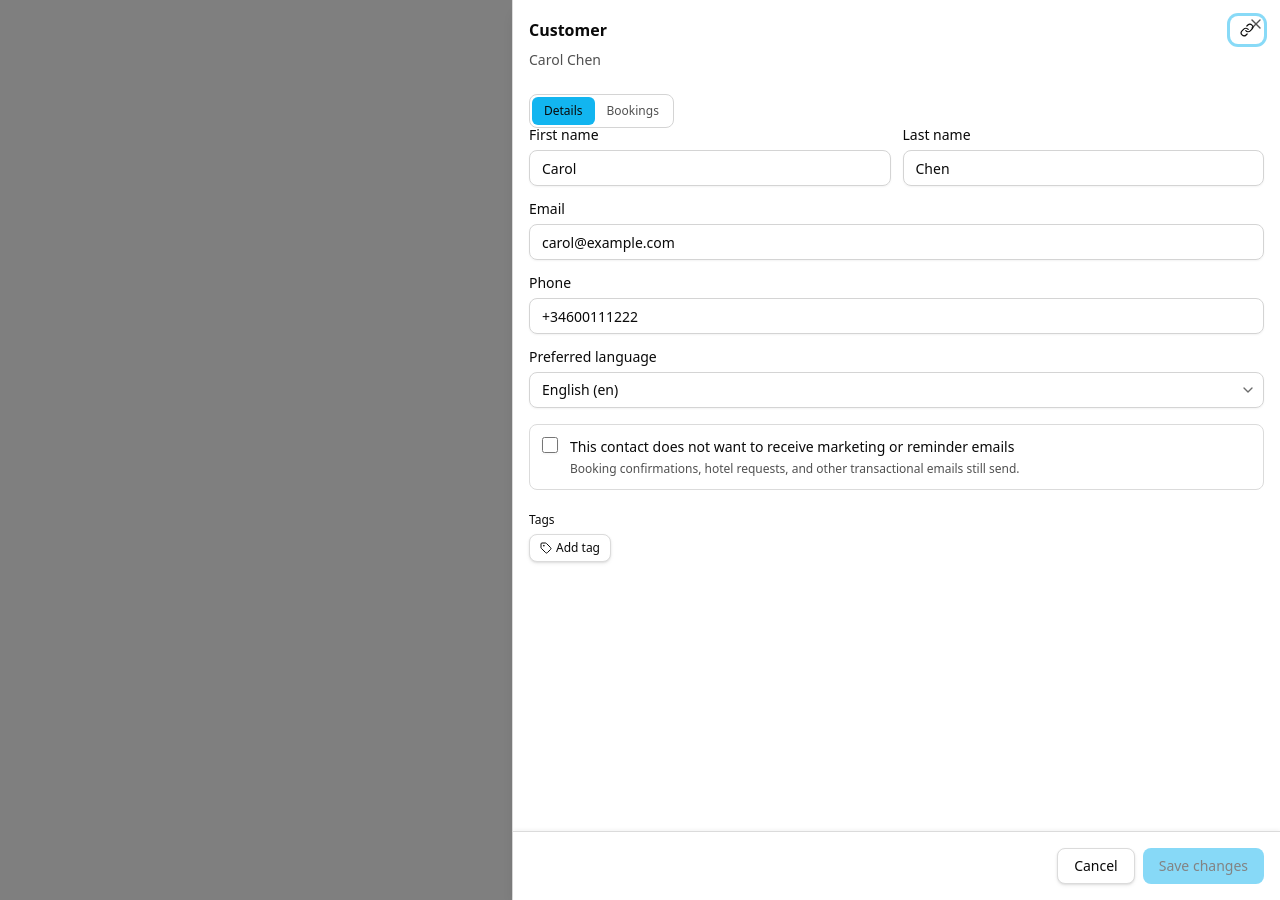
Test: CustomerDetailSheet › Bookings tab (landr-7o2a) › renders the bookings list with summary + rows when the tab is clicked
Click the tab with test id "customer-tab-bookings".
click(633, 111)  # box [594,97,671,125]
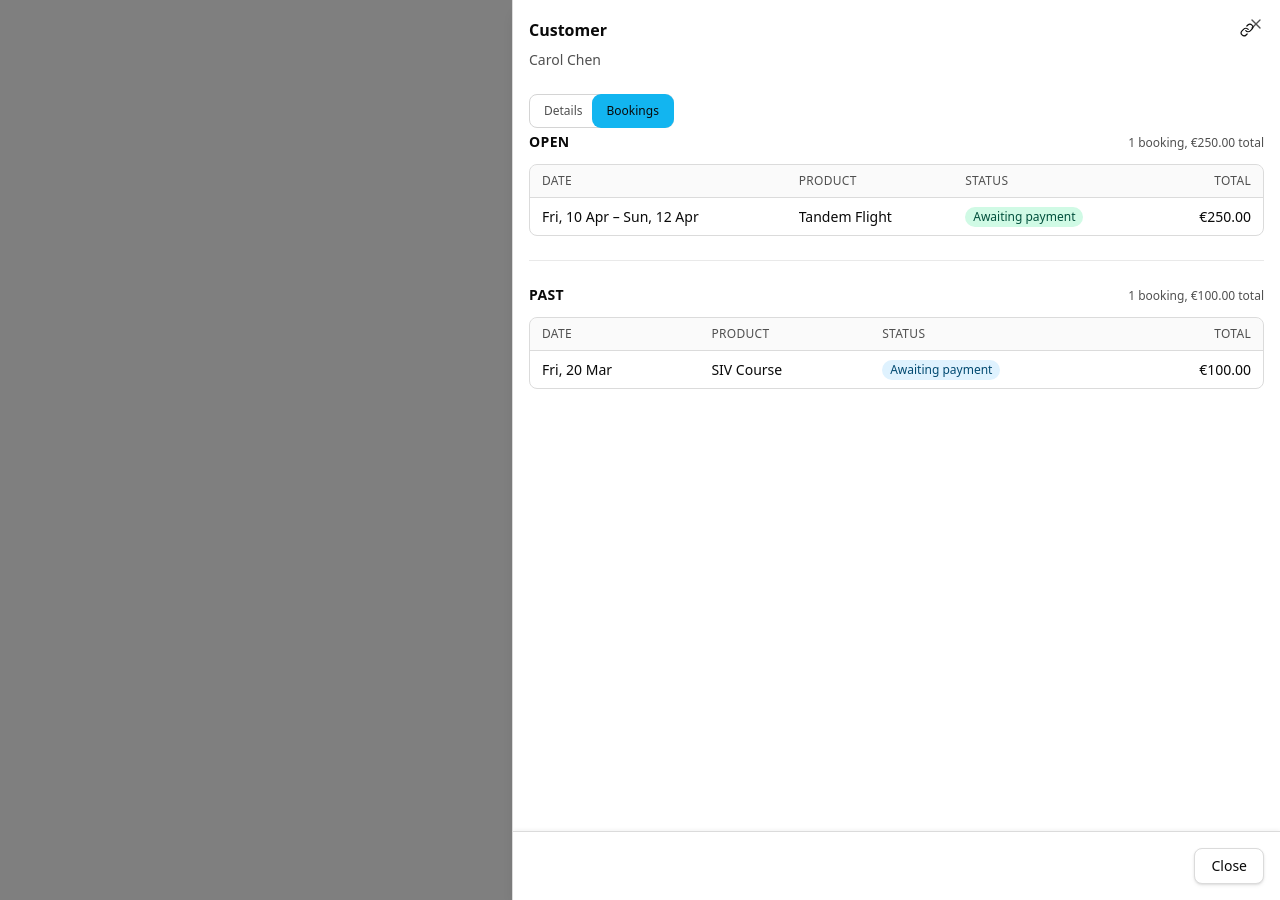
Result: the text with test id "customer-bookings-open-summary" shows "1 booking" at [1128,134,1264,151]
Result: the text with test id "customer-bookings-open-summary" shows "250" at [1128,134,1264,151]
Result: the text with test id "customer-bookings-past-summary" shows "1 booking" at [1128,287,1264,304]
